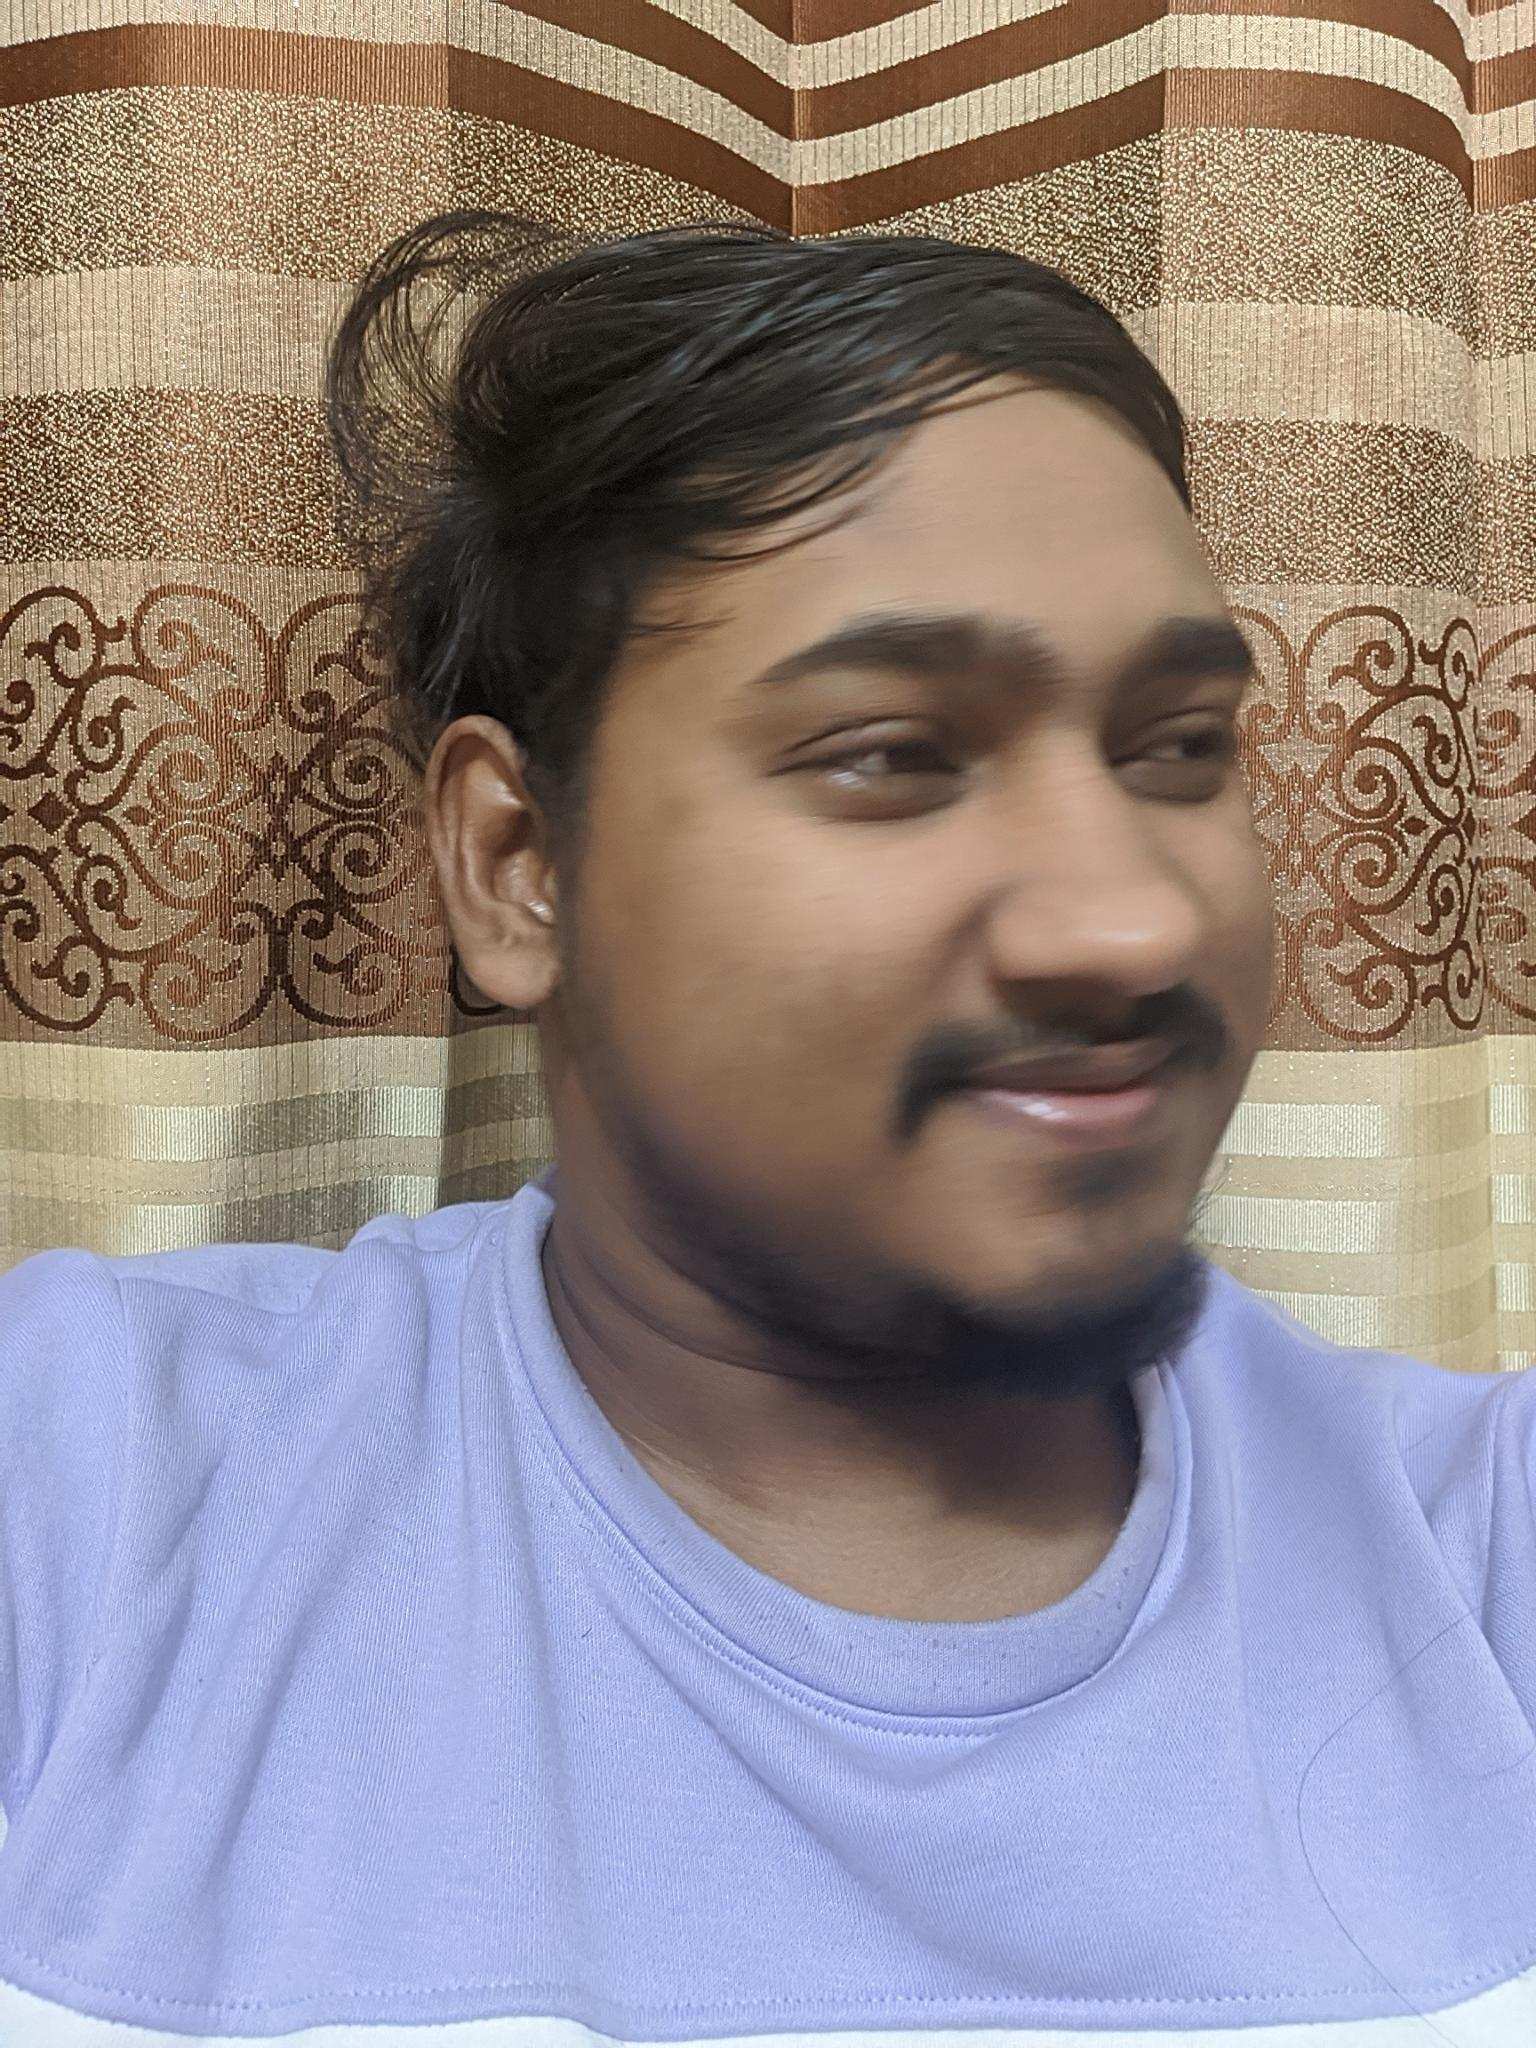Happy: (708, 518, 1300, 1334)
